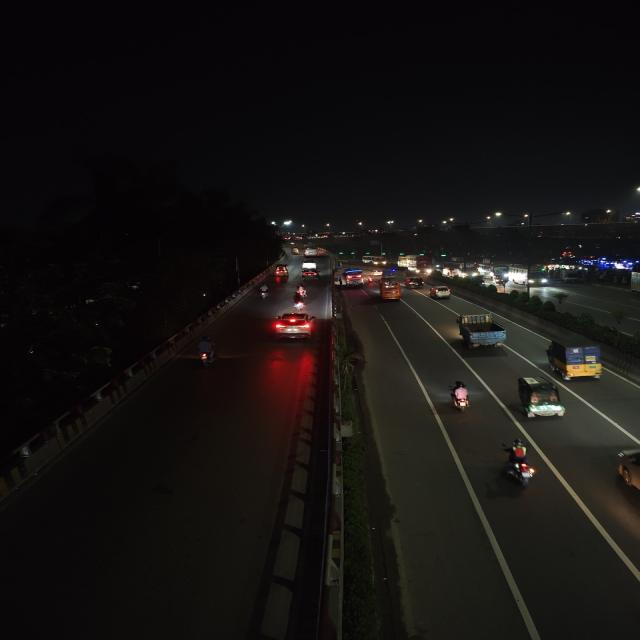bus: (509, 265, 553, 287), (442, 260, 479, 280), (376, 276, 403, 302), (405, 254, 434, 276), (481, 263, 508, 282), (342, 268, 363, 288), (360, 254, 387, 266), (303, 242, 318, 257)
car: (271, 311, 322, 342), (428, 285, 451, 300), (405, 276, 426, 289), (302, 268, 321, 280), (301, 258, 317, 268), (371, 270, 383, 277)
cng: (515, 374, 565, 422), (273, 262, 291, 279), (290, 246, 300, 255)
motorcycle: (497, 437, 542, 489), (191, 331, 223, 368), (442, 377, 474, 412), (256, 284, 274, 301), (295, 284, 309, 299), (291, 296, 306, 310), (366, 274, 373, 284)
pickup_van: (454, 310, 510, 354)
truck: (543, 334, 611, 382), (558, 267, 581, 284), (382, 268, 396, 278)
